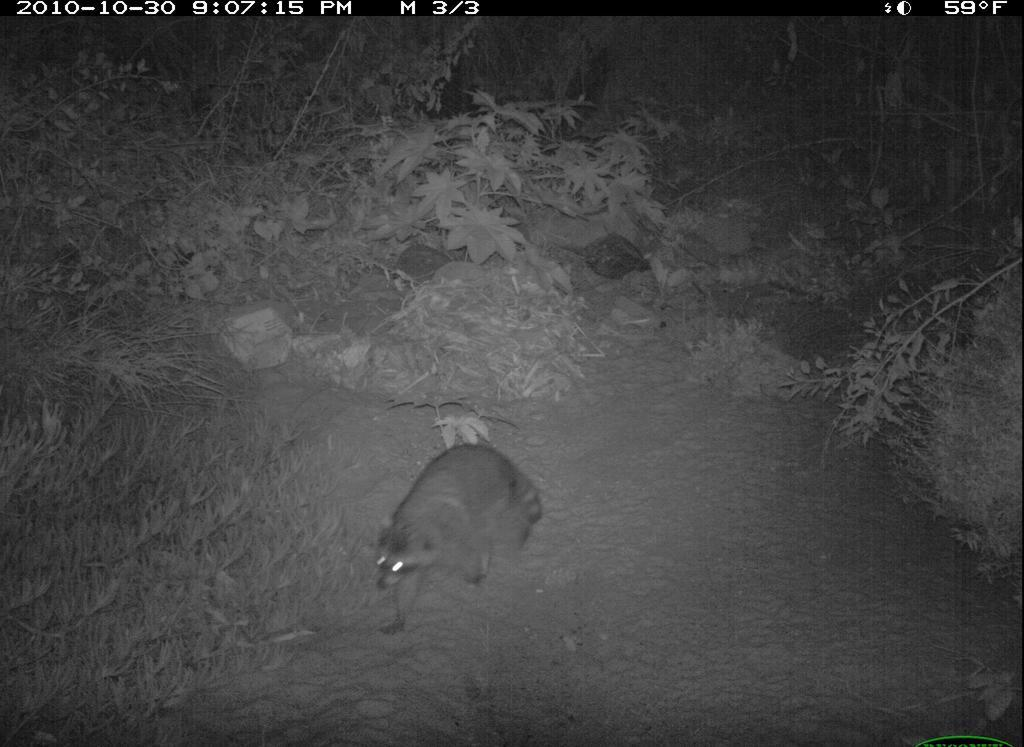raccoon: (363, 434, 550, 644)
